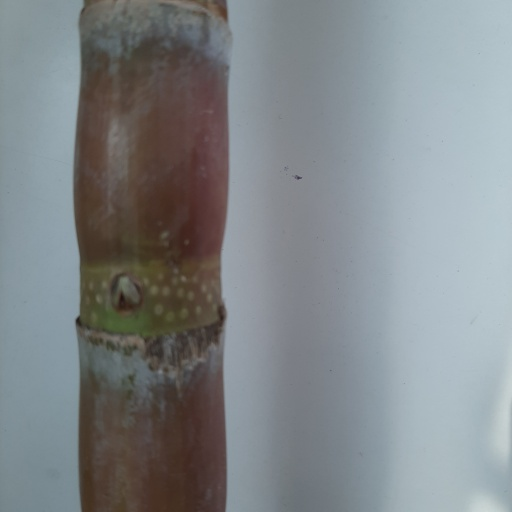Bud: (108, 274, 140, 313)
